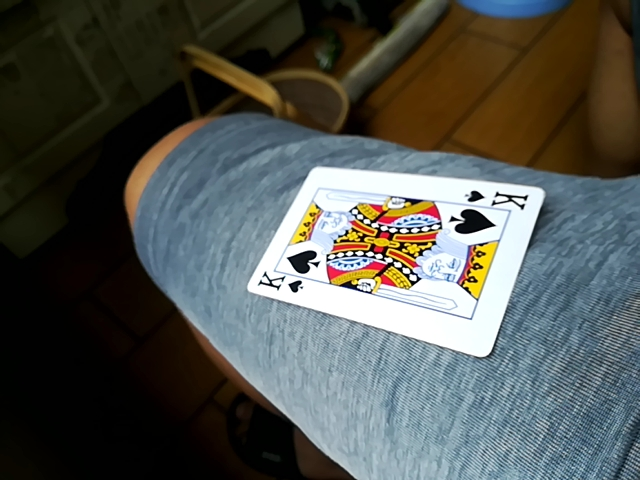ht k: (245, 169, 551, 357)
